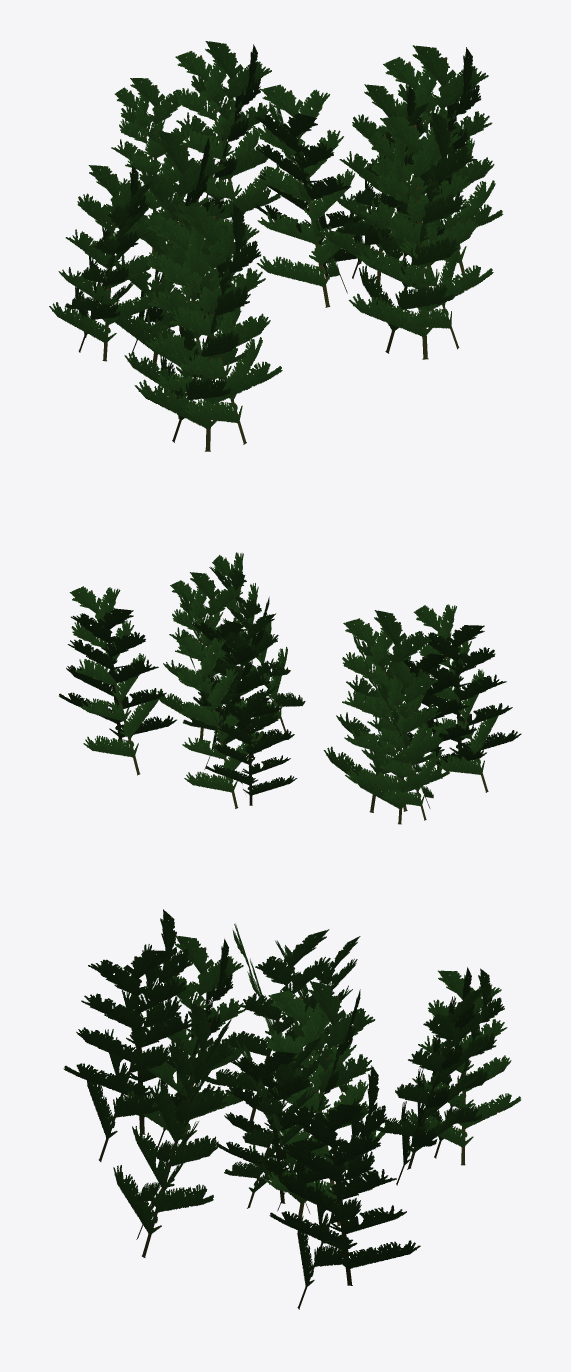
File: SM_Art_Veg_Gorse_1.gltf
3 renders of one model, top to bottom at view 1: azimuth 30°, elevation 25°; view 2: azimuth 150°, elevation 25°; view 3: azimuth 270°, elevation 25°, orthographic. The views are drawn at different scales.
Parts seen in each view (by area): view 1: SM_Art_Veg_Gorse_1; view 2: SM_Art_Veg_Gorse_1; view 3: SM_Art_Veg_Gorse_1.
Boxes of the visible parts, x1,y1,x2,y2 form: SM_Art_Veg_Gorse_1: [49, 41, 503, 451]; SM_Art_Veg_Gorse_1: [59, 552, 521, 824]; SM_Art_Veg_Gorse_1: [63, 909, 521, 1309].
Bounding box in the file's own units: 2.15 × 0.9072 × 1.8.
Materials: 1 (1 with a texture image).
